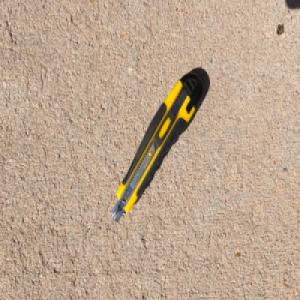Cutter: (110, 69, 204, 224)
